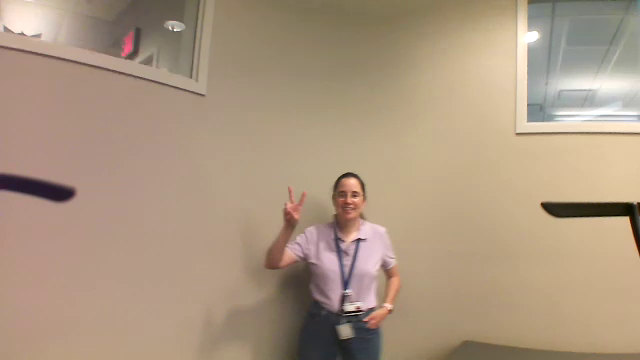peace: (278, 183, 312, 231)
